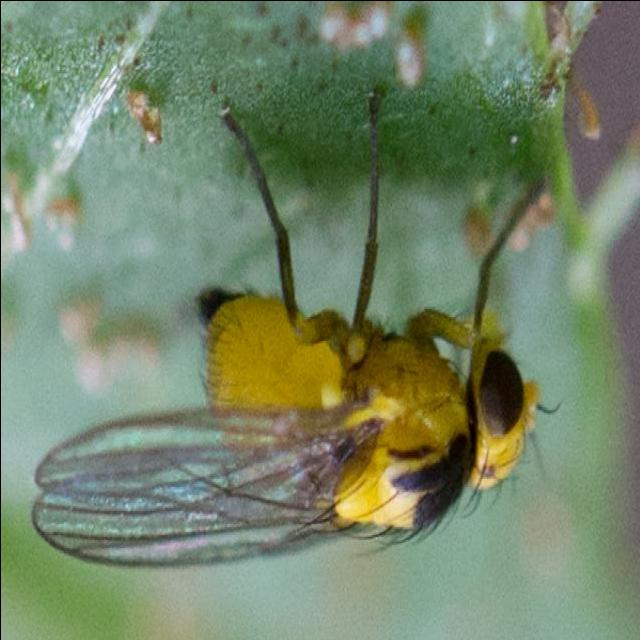Serpentine leafminer: (24, 79, 570, 581)
